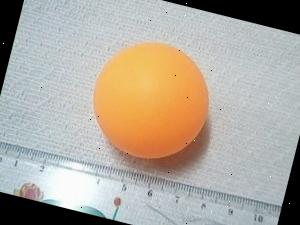ball: (74, 26, 224, 172)
